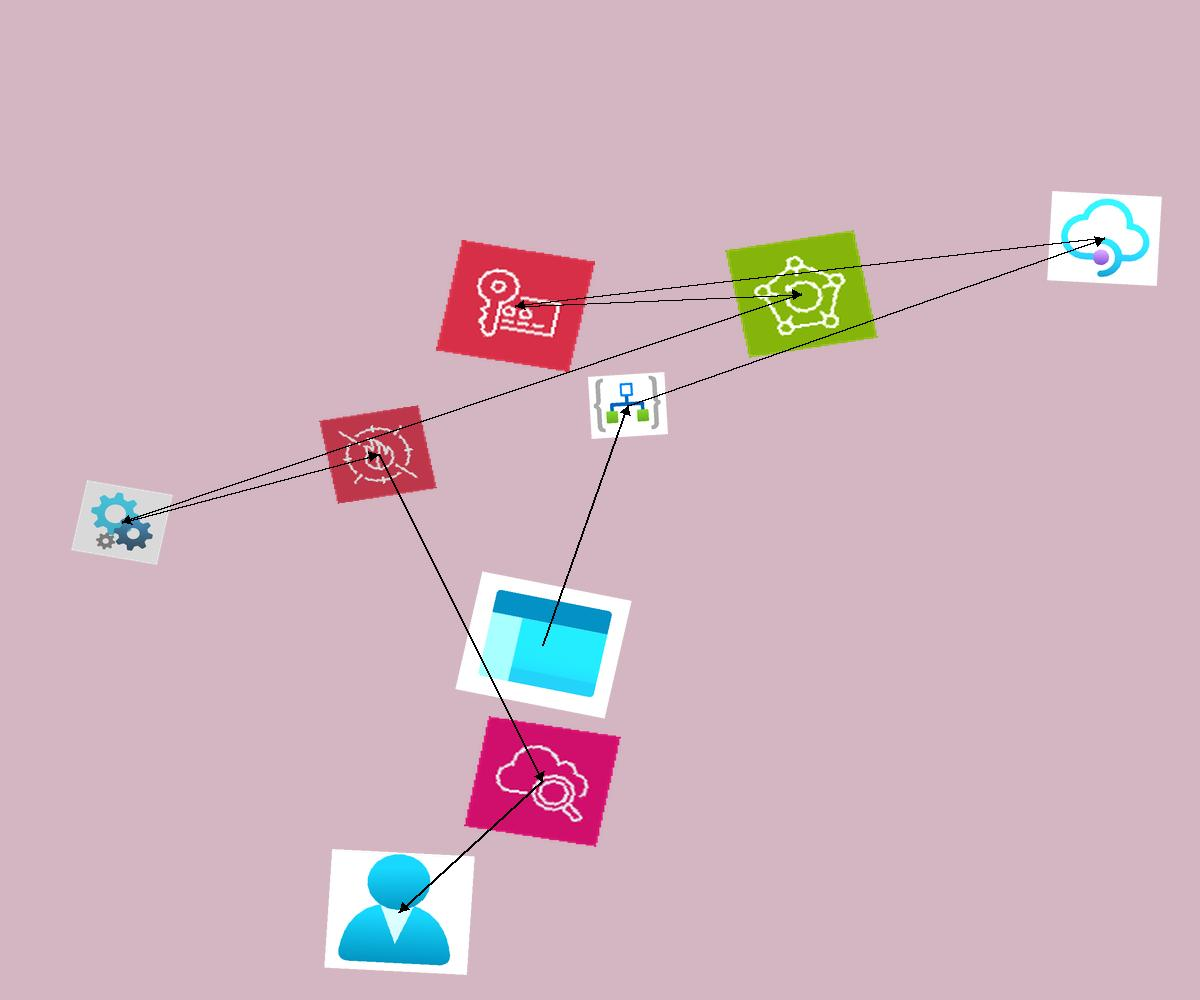AWS-Backup: (725, 230, 878, 358)
AWS-CloudWatch: (464, 716, 621, 847)
AWS-Key-Management-Service: (436, 240, 595, 372)
AWS-WAF: (319, 405, 437, 504)
Azure_api: (71, 480, 173, 565)
Azure_api_gateway: (1047, 191, 1162, 286)
Azure_integration-204-Logic-Apps: (588, 372, 668, 439)
Azure_management-portal: (455, 571, 632, 719)
Azure_users: (324, 849, 475, 975)
